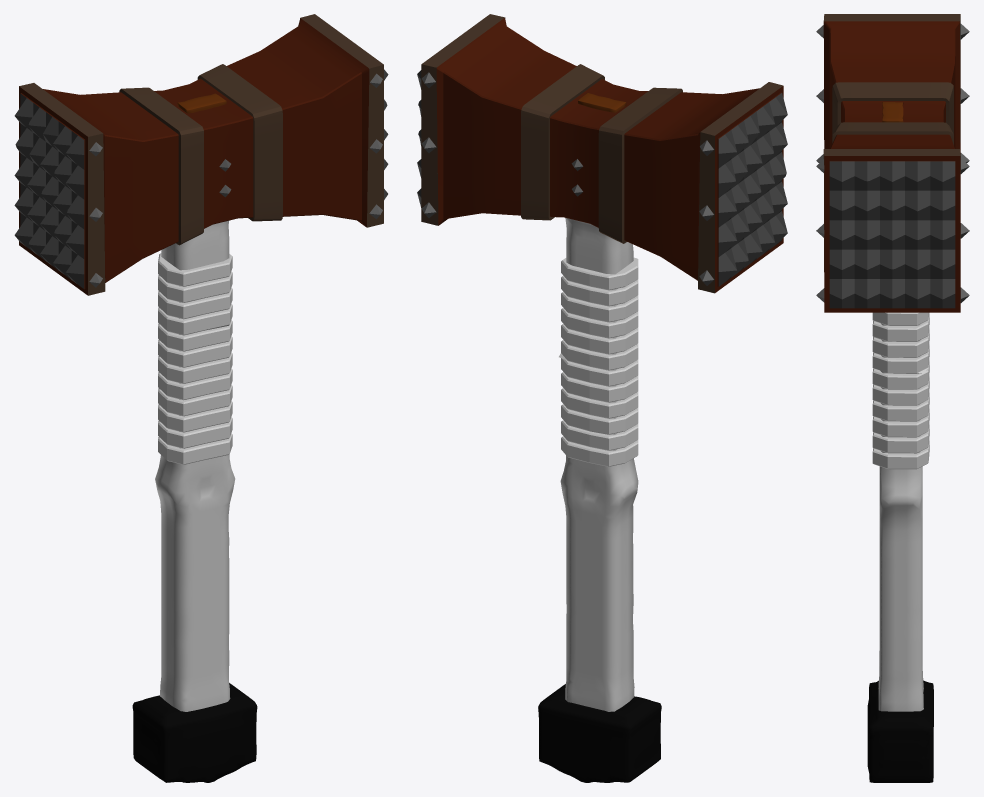
3 renders of one model, left to right at view 1: azimuth 30°, elevation 25°; view 2: azimuth 150°, elevation 25°; view 3: azimuth 270°, elevation 25°, orthographic.
Visible parts, largest first — view 1: Hammer_head.006, Handle.Low2, Hammer_head.008, Handle_strap.001, Hammer_head.007, Handle_Bottom.Low, Hammer_spikes.001; view 2: Hammer_head.006, Handle.Low2, Hammer_head.008, Handle_strap.001, Hammer_head.007, Handle_Bottom.Low, Hammer_spikes.001; view 3: Hammer_head.007, Hammer_head.006, Handle.Low2, Handle_strap.001, Hammer_head.008, Handle_Bottom.Low, Hammer_spikes.001, Nub.001.
Boxes of the visible parts, x1,y1,x2,y2 form: Hammer_head.006: (19,18,369,295); Handle.Low2: (155,220,235,711); Hammer_head.008: (19,14,383,295); Handle_strap.001: (158,253,232,464); Hammer_head.007: (14,68,388,288); Handle_Bottom.Low: (132,683,257,782); Hammer_spikes.001: (89,73,382,287); Hammer_head.006: (436,18,783,292); Handle.Low2: (560,217,638,711); Hammer_head.008: (421,14,782,293); Handle_strap.001: (559,257,638,466); Hammer_head.007: (417,67,787,286); Handle_Bottom.Low: (538,684,661,782); Hammer_spikes.001: (421,72,713,285); Hammer_head.007: (829,161,955,308); Hammer_head.006: (823,21,960,312); Handle.Low2: (878,323,923,711); Handle_strap.001: (872,312,929,469); Hammer_head.008: (823,14,960,271); Handle_Bottom.Low: (867,680,933,782); Hammer_spikes.001: (816,24,969,302); Nub.001: (882,102,903,122).
Size of the model in its own units: 0.9614 by 1.99 by 0.4032.
